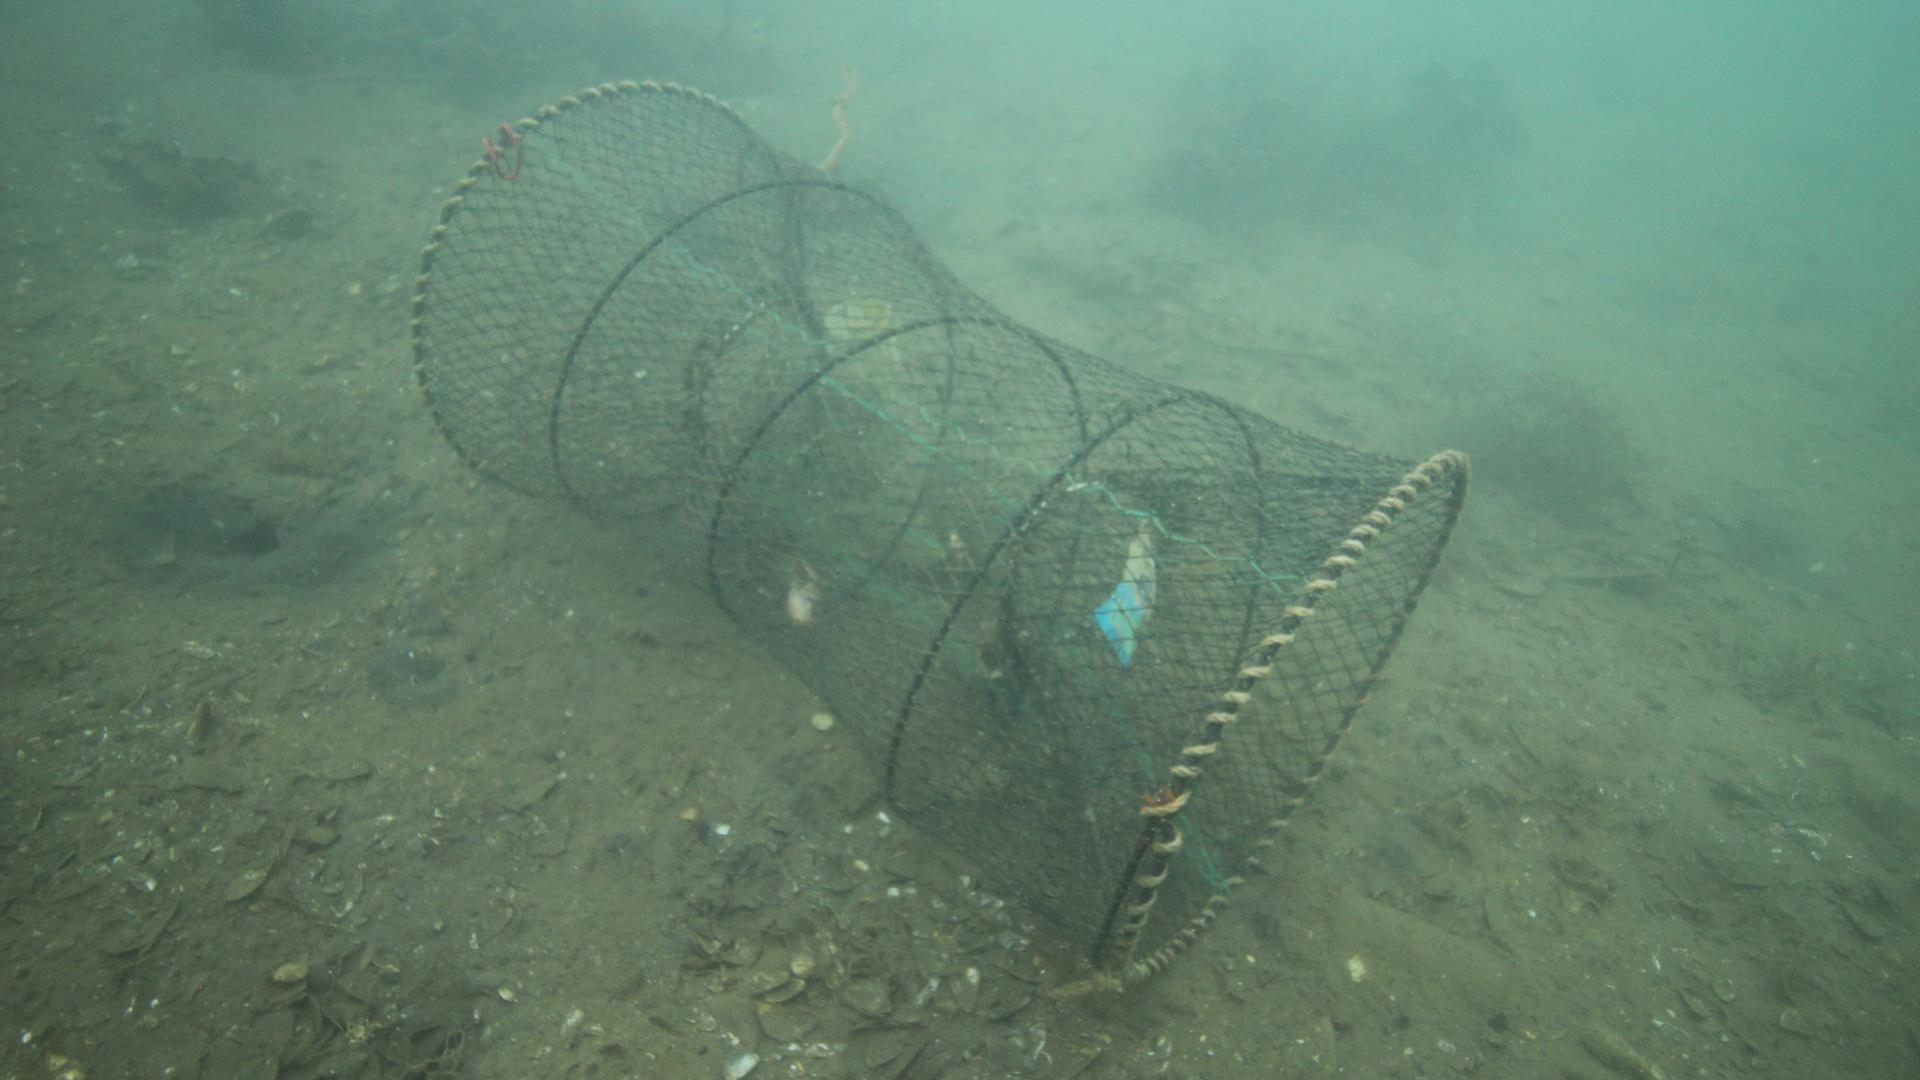bundle of ropes: (811, 57, 858, 170)
spring fish trap: (409, 78, 1466, 992)
